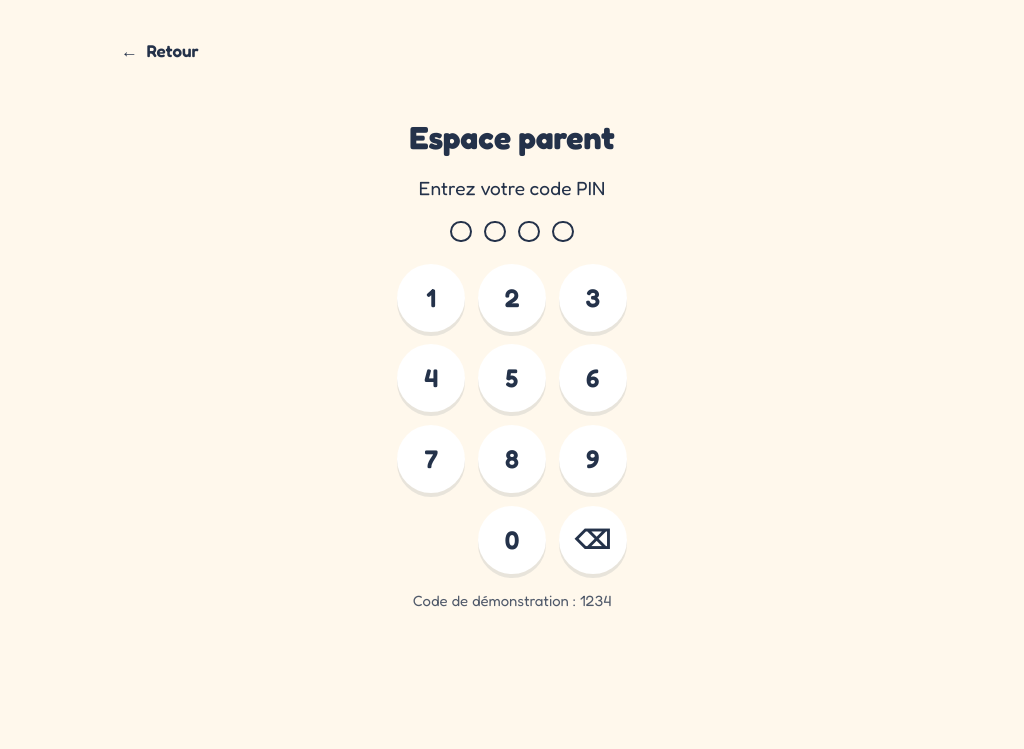
Test: espace parent › affiche les profils et les alertes avec le bon PIN
Click the button "1": {"x": 431, "y": 298} 397,264 -> 465,332
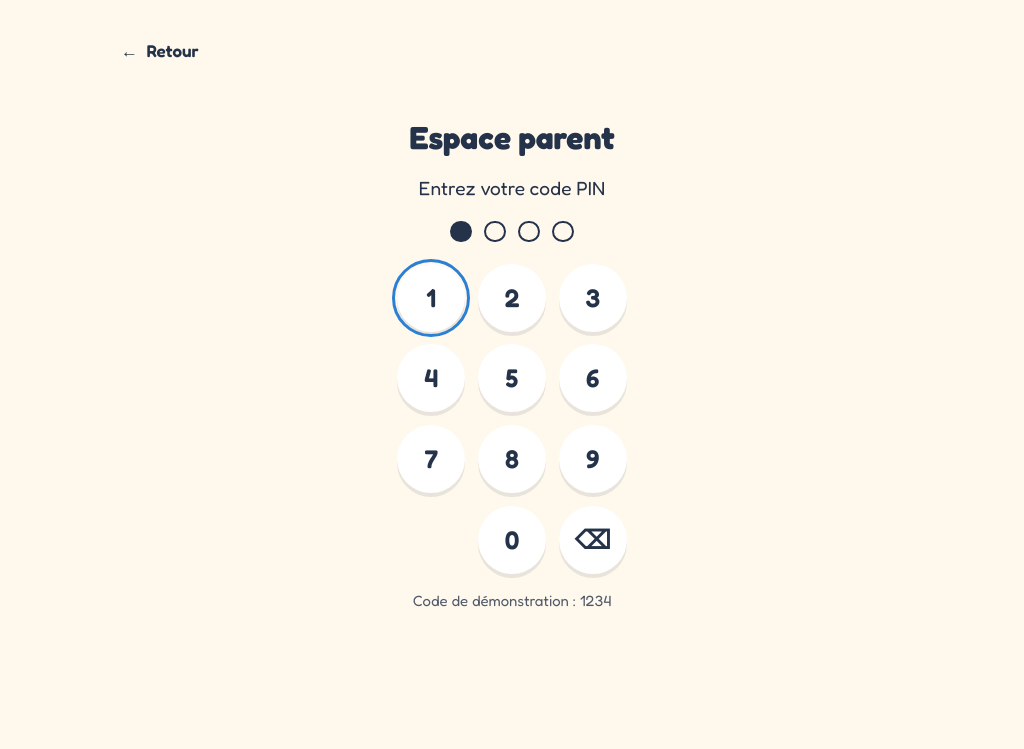
Click the button "2": {"x": 512, "y": 298} 478,264 -> 546,332
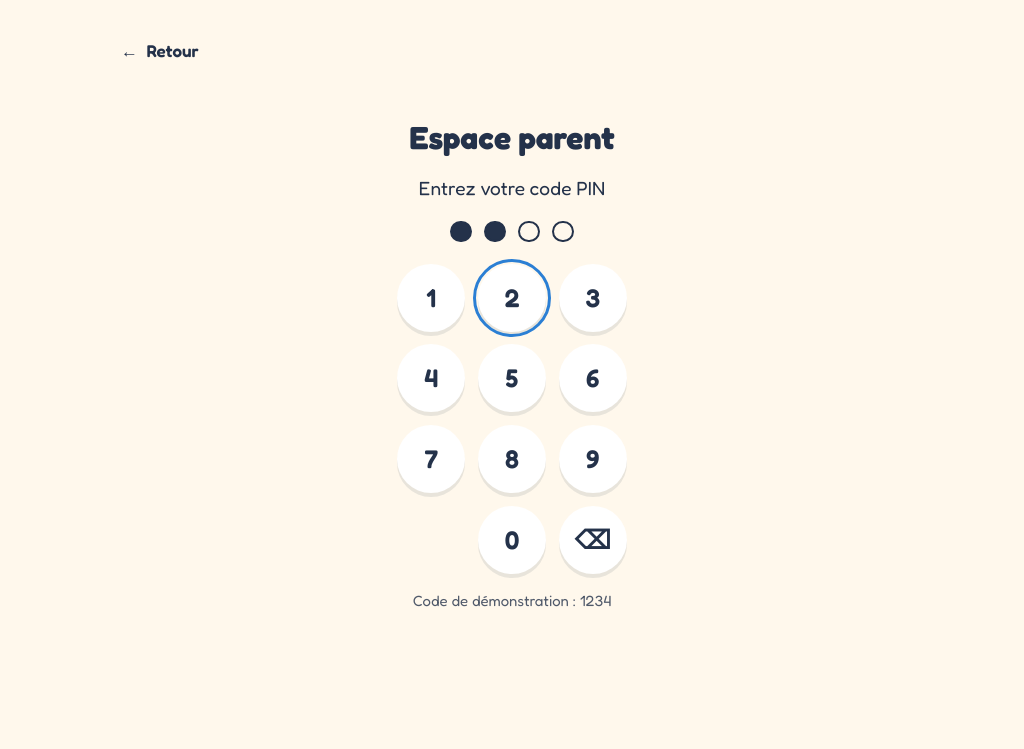
Click the button "3": {"x": 593, "y": 298} 559,264 -> 627,332
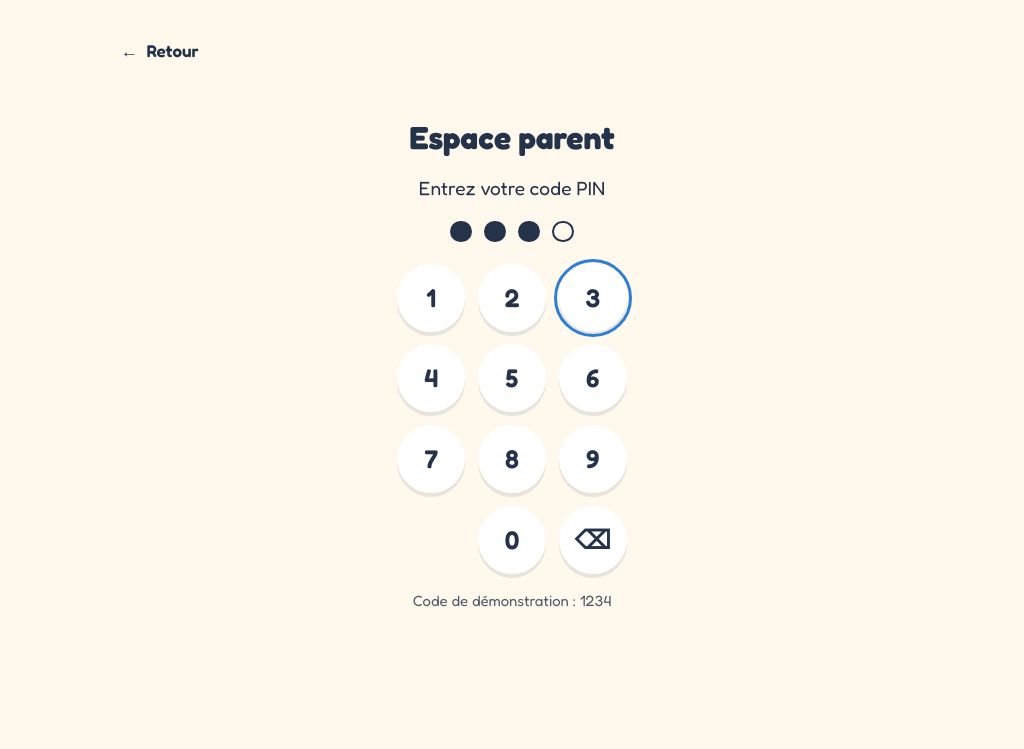
Click the button "4": {"x": 431, "y": 378} 397,344 -> 465,412
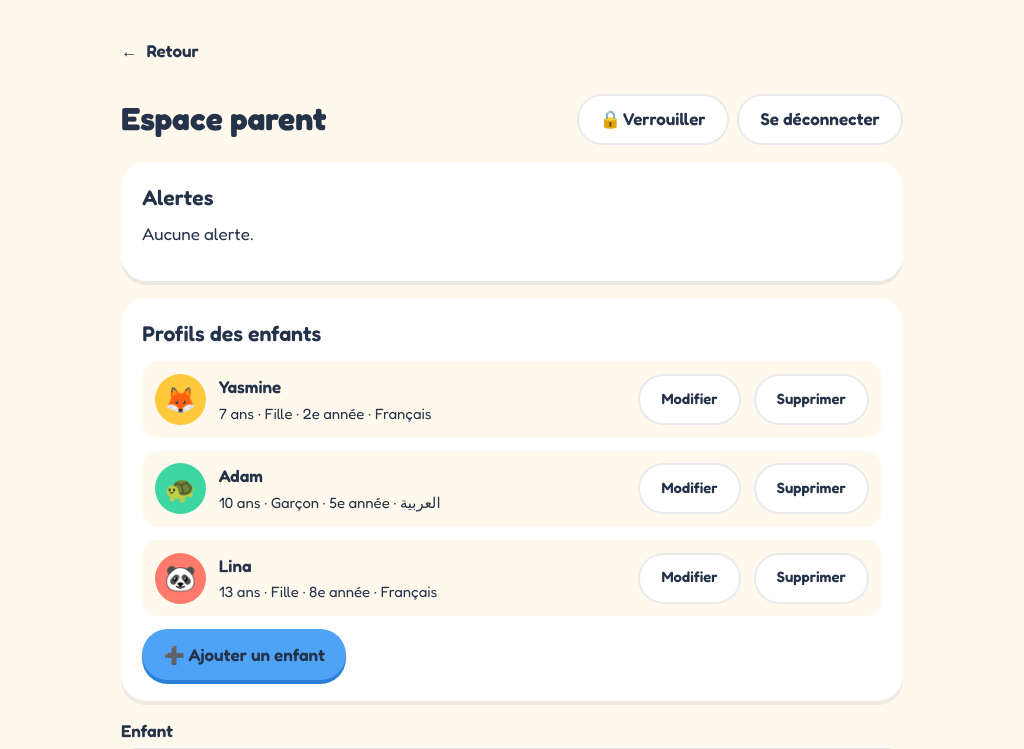
Check: the heading "Profils des enfants" is shown, box 142,320 -> 321,346
Check: the text "Aucune alerte." is shown, box 142,223 -> 254,244
Check: the text "Yasmine" is shown, box 219,376 -> 281,397
